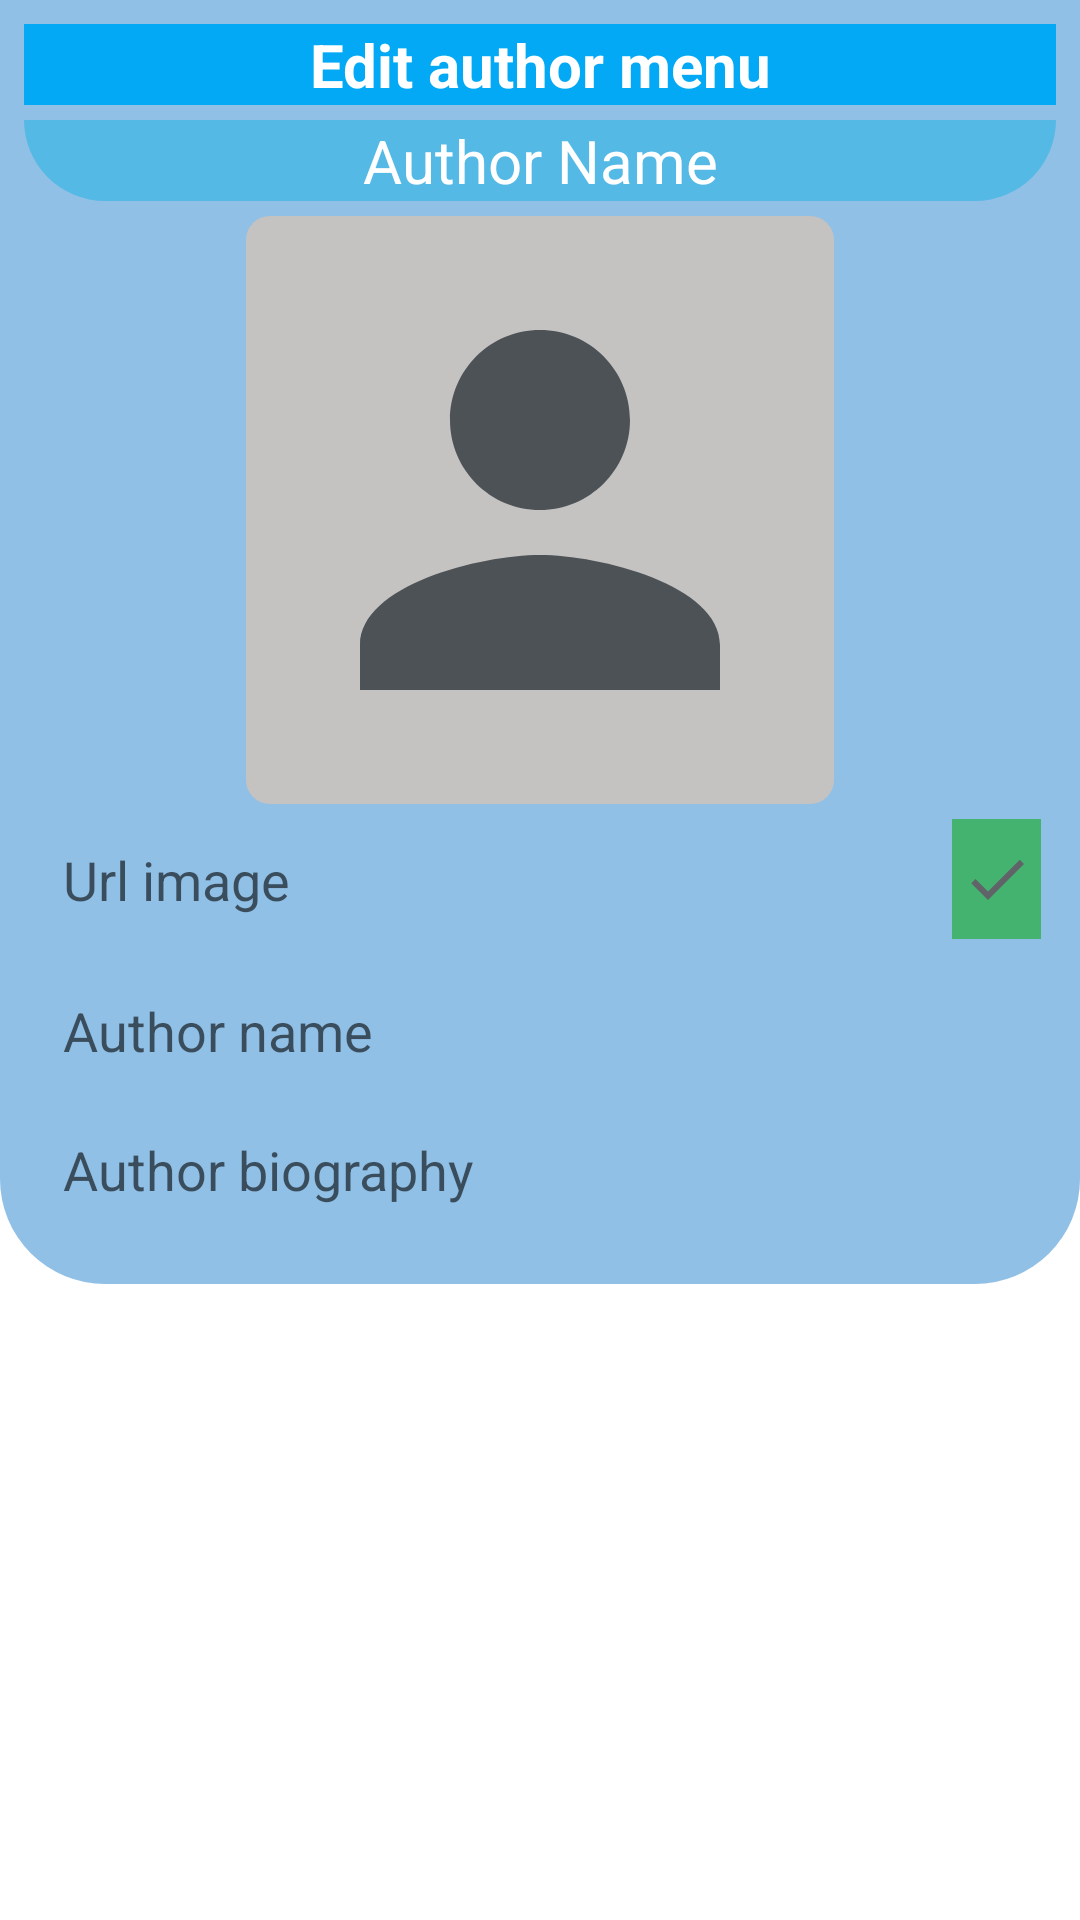

Named icons in this screenshot (1080x1920) and their bounding boxes, (x1, y1, x2, y2):
check: (952, 819, 1041, 939)
person: (360, 330, 720, 690)
